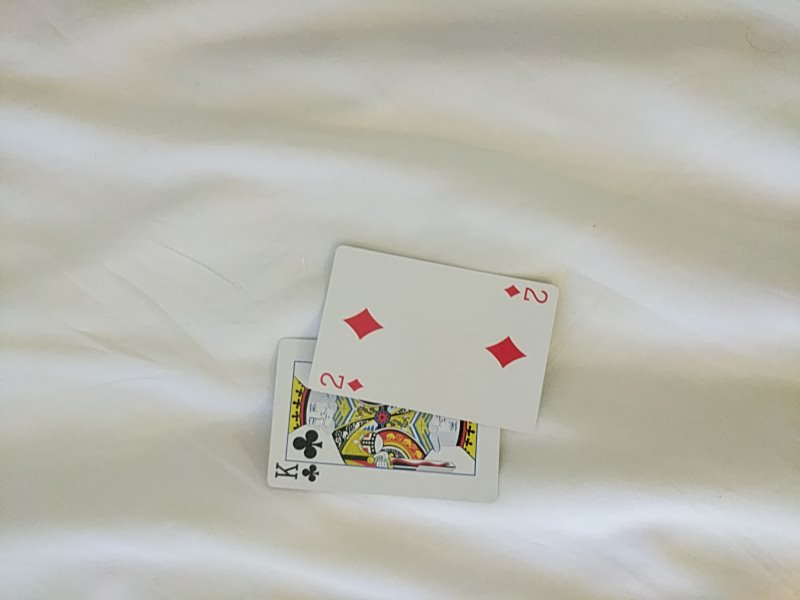Clubs: (267, 337, 503, 502)
Diamonds: (307, 246, 560, 435)
